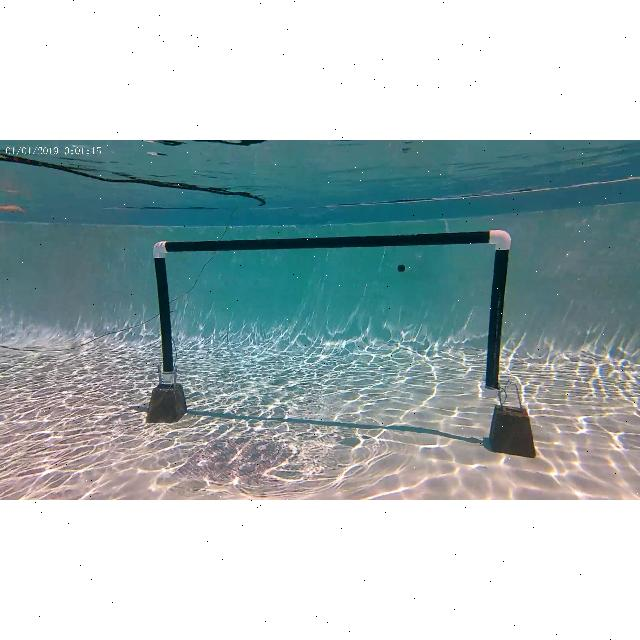prequal gate: (154, 228, 511, 398)
prequal gate leg l: (153, 241, 183, 385)
prequal gate leg r: (483, 228, 519, 396)
